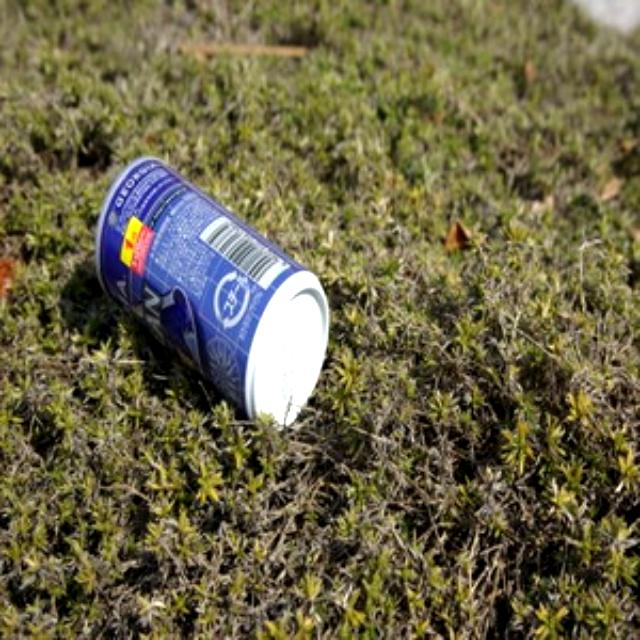Metal: (95, 151, 329, 427)
